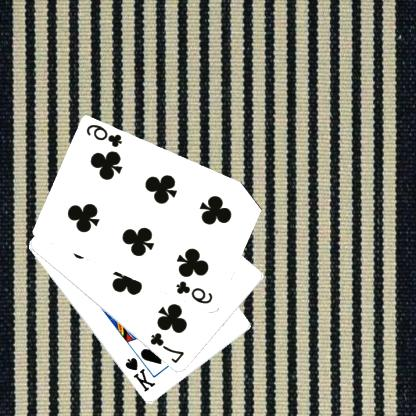6C: (176, 278, 216, 306), (86, 122, 126, 149)
7C: (149, 330, 187, 365)
KS: (124, 355, 158, 393)
